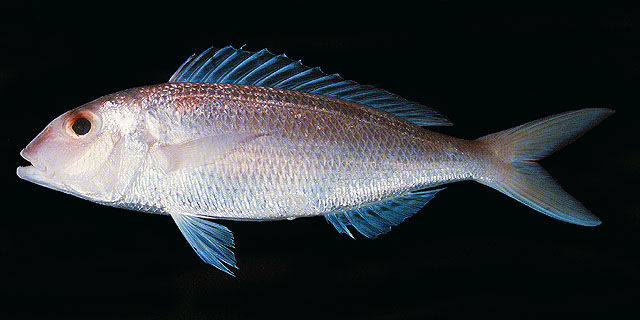fish: (16, 44, 615, 279)
